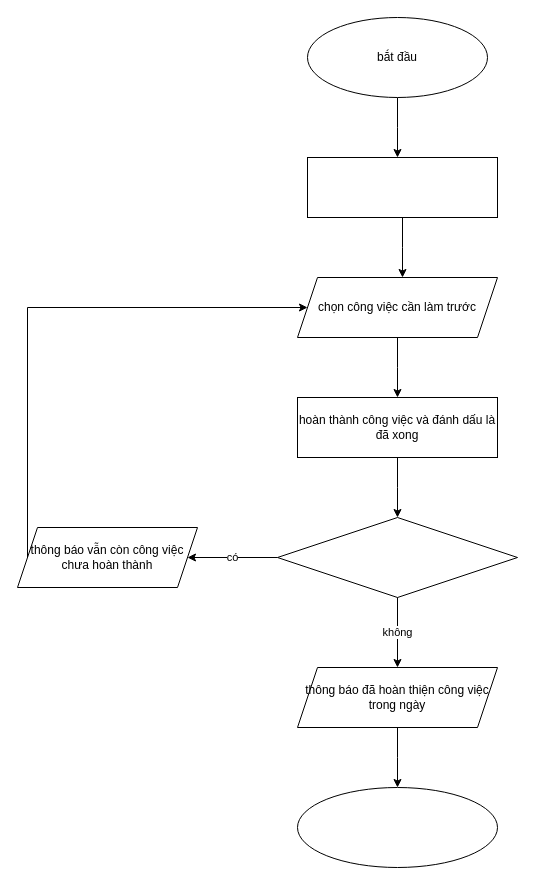
Image size: 535x885. Some labels were removed from this diagram. The centre of each missing label's shape, as x and y in pixels:
còn công việc nào chưa xong?: (x=397, y=557)
kết thúc: (x=397, y=827)
liệt kê các công việc cần làm trong ngày: (x=402, y=187)
